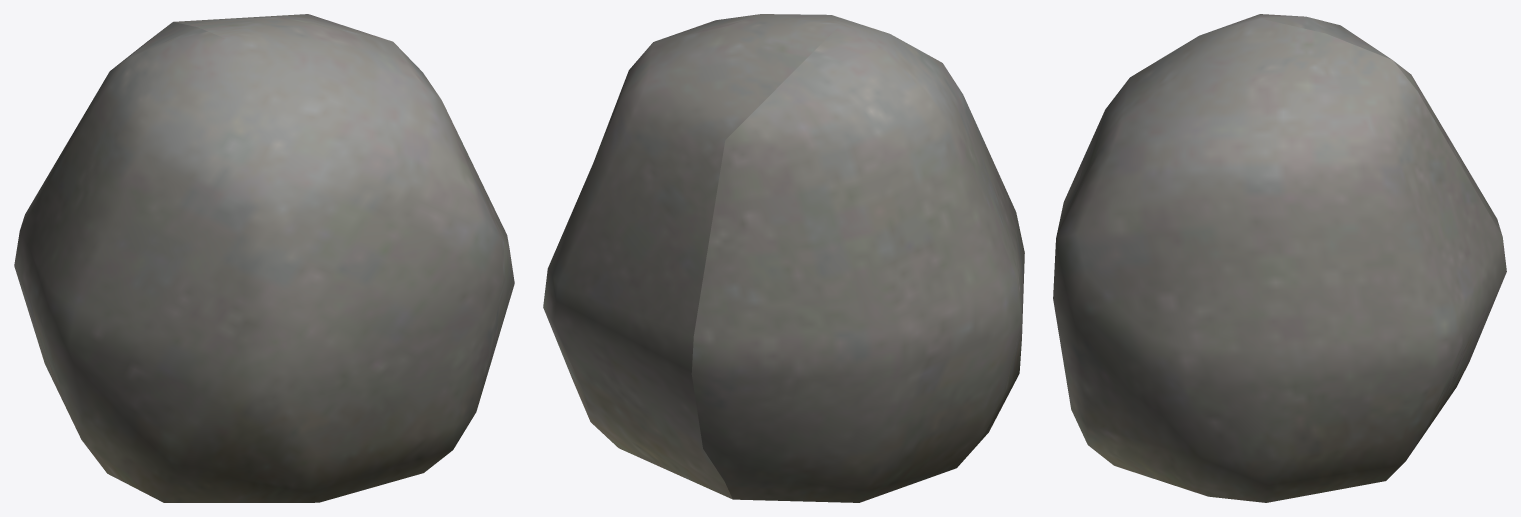
The model's file is stone.gltf.
3 renders of one model, left to right at view 1: azimuth 30°, elevation 25°; view 2: azimuth 150°, elevation 25°; view 3: azimuth 270°, elevation 25°, orthographic. The views are drawn at different scales.
Parts seen in each view (by area): view 1: Body__mBody; view 2: Body__mBody; view 3: Body__mBody.
Boxes of the visible parts, left/top/right/bottom form: Body__mBody: left=14, top=14, right=514, bottom=502; Body__mBody: left=543, top=14, right=1024, bottom=502; Body__mBody: left=1053, top=14, right=1506, bottom=502.
Bounding box in the file's own units: 3.27 × 3 × 3.15.
1 material, 1 textured.
